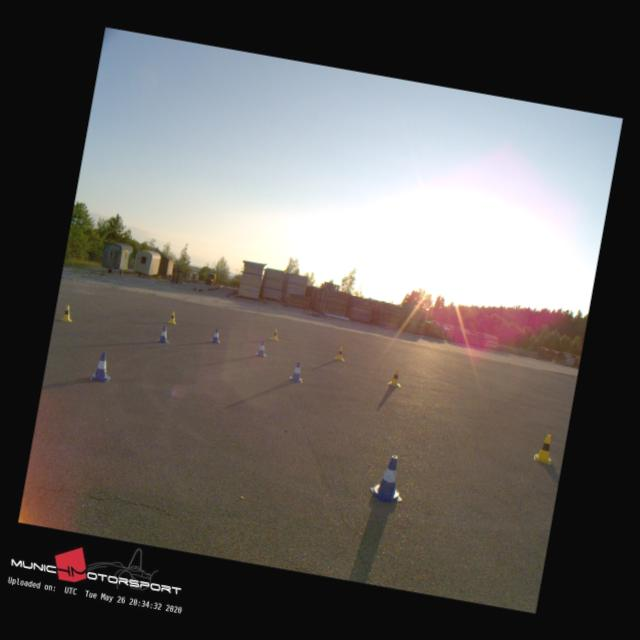blue_cone: (367, 452, 409, 502), (88, 350, 115, 383), (288, 361, 304, 382), (156, 324, 172, 343), (254, 340, 268, 356), (210, 328, 222, 342)
yellow_cone: (532, 432, 554, 464), (387, 368, 403, 387), (60, 304, 74, 322), (333, 345, 345, 360), (166, 310, 178, 323), (269, 328, 280, 340)
